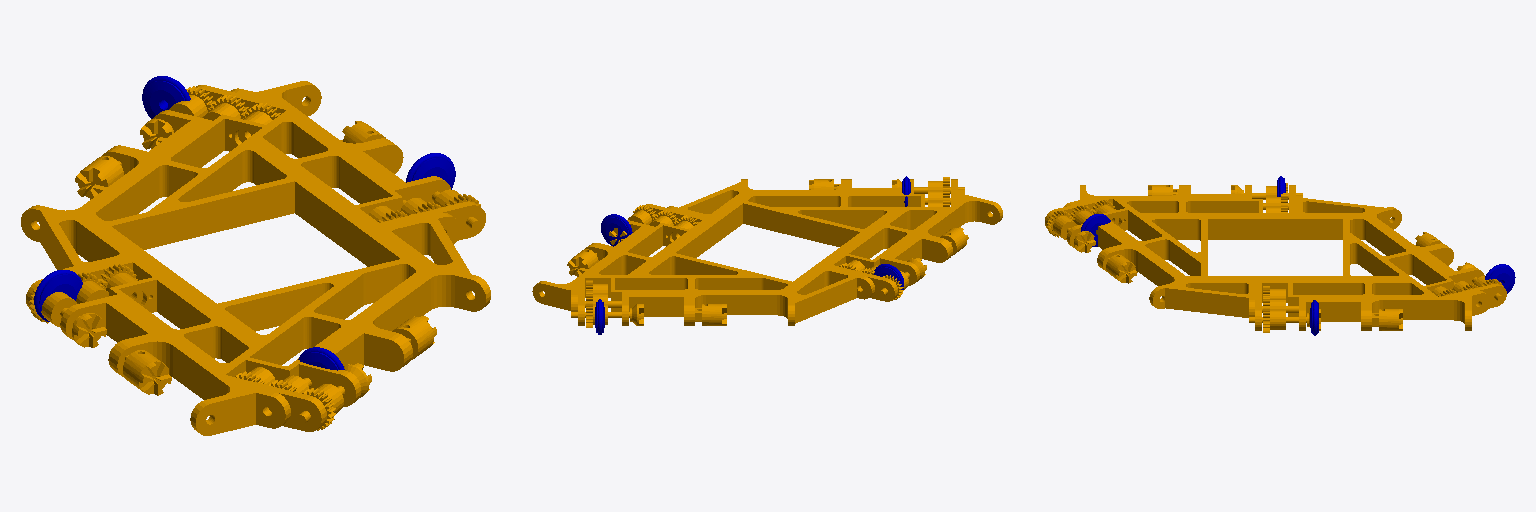
robot.urdf — miura_bot:
<robot name="miura_bot">

  <!-- Materials -->
  <material name="blue">
    <color rgba = "0 0 0.8 1"/>
  </material>

  <!-- Links -->
  <link name="base_link">
    <visual>
      <origin rpy="0.0 0 0" xyz="0 0 0"/>
      <geometry>
        <mesh filename="mori-design-2.stl" scale="1.00 1.00 1.00"/>
      </geometry>
    </visual>
    <collision>
      <origin rpy="0.0 0 0" xyz="0 0 0"/>
      <geometry>
        <mesh filename="mori-design-2.stl" scale="1.00 1.00 1.00"/>
      </geometry>
    </collision>
  </link>

  <link name="wheel1">
    <visual>
      <origin rpy="0.0 0 0" xyz="0 0 0"/>
      <geometry>
        <mesh filename="wheel.stl" scale="1.00 1.00 1.00"/>
      </geometry>
      <material name="blue"/>
    </visual>
    <collision>
      <origin rpy="0.0 0 0" xyz="0 0 0"/>
      <geometry>
        <mesh filename="wheel.stl" scale="1.00 1.00 1.00"/>
      </geometry>
    </collision>
  </link>

  <link name="wheel2">
    <visual>
      <origin rpy="0.0 0 0" xyz="0 0 0"/>
      <geometry>
        <mesh filename="wheel.stl" scale="1.00 1.00 1.00"/>
      </geometry>
      <material name="blue"/>
    </visual>
    <collision>
      <origin rpy="0.0 0 0" xyz="0 0 0"/>
      <geometry>
        <mesh filename="wheel.stl" scale="1.00 1.00 1.00"/>
      </geometry>
    </collision>
  </link>

  <link name="wheel3">
    <visual>
      <origin rpy="0.0 0 0" xyz="0 0 0"/>
      <geometry>
        <mesh filename="wheel.stl" scale="1.00 1.00 1.00"/>
      </geometry>
      <material name="blue"/>
    </visual>
    <collision>
      <origin rpy="0.0 0 0" xyz="0 0 0"/>
      <geometry>
        <mesh filename="wheel.stl" scale="1.00 1.00 1.00"/>
      </geometry>
    </collision>
  </link>

  <link name="wheel4">
    <visual>
      <origin rpy="0.0 0 0" xyz="0 0 0"/>
      <geometry>
        <mesh filename="wheel.stl" scale="1.00 1.00 1.00"/>
      </geometry>
      <material name="blue"/>
    </visual>
    <collision>
      <origin rpy="0.0 0 0" xyz="0 0 0"/>
      <geometry>
        <mesh filename="wheel.stl" scale="1.00 1.00 1.00"/>
      </geometry>
    </collision>
  </link>

  <!-- Joints -->
  <joint name="joint1" type="continuous">
    <parent link="base_link"/>
    <child link="wheel1"/>
    <axis xyz="0 1 0"/>
    <!-- <limit effort="1000.0" lower="-1.571" upper="1.571" velocity="0.5"/> -->
    <origin rpy="0 0 0" xyz="0 103 0"/>
  </joint>
    
  <joint name="joint2" type="continuous">
    <parent link="base_link"/>
    <child link="wheel2"/>
    <axis xyz="0 1 0"/>
    <!-- <limit effort="1000.0" lower="-1.571" upper="1.571" velocity="0.5"/> -->
    <origin rpy="0 0 0" xyz="130 118 0"/>
  </joint>

  <joint name="joint3" type="continuous">
    <parent link="base_link"/>
    <child link="wheel3"/>
    <axis xyz="0 1 0"/>
    <!-- <limit effort="1000.0" lower="-1.571" upper="1.571" velocity="0.5"/> -->
    <origin rpy="0 0 2.0944" xyz="52 17 0"/>
  </joint>

  <joint name="joint4" type="continuous">
    <parent link="base_link"/>
    <child link="wheel4"/>
    <axis xyz="0 1 0"/>
    <!-- <limit effort="1000.0" lower="-1.571" upper="1.571" velocity="0.5"/> -->
    <origin rpy="0 0 2.0944" xyz="105 196 0"/>
  </joint>

</robot>

--- Render facts (derived) ---
3 views of the same robot in one strip: view 1: azimuth 30°, elevation 25°; view 2: azimuth 150°, elevation 25°; view 3: azimuth 270°, elevation 25° (orthographic).
Model miura_bot with 5 links and 4 joints (4 continuous), rooted at base_link, posed every joint at zero.
Visible links, largest first — view 1: base_link, wheel4, wheel1, wheel2, wheel3; view 2: base_link, wheel2; view 3: base_link.
Link boxes in pixels (x1,y1,x2,y2): base_link: (21, 81, 490, 435); wheel4: (142, 76, 190, 118); wheel1: (34, 270, 82, 321); wheel2: (406, 153, 455, 189); wheel3: (298, 347, 344, 370); base_link: (532, 177, 1002, 327); wheel2: (601, 214, 632, 246); base_link: (1045, 183, 1506, 332).
Size in the robot's own frame: 146 by 209 by 15.99 metres.
Meshes: 2 distinct files referenced, 5 mesh visuals loaded (2 binary STL).
